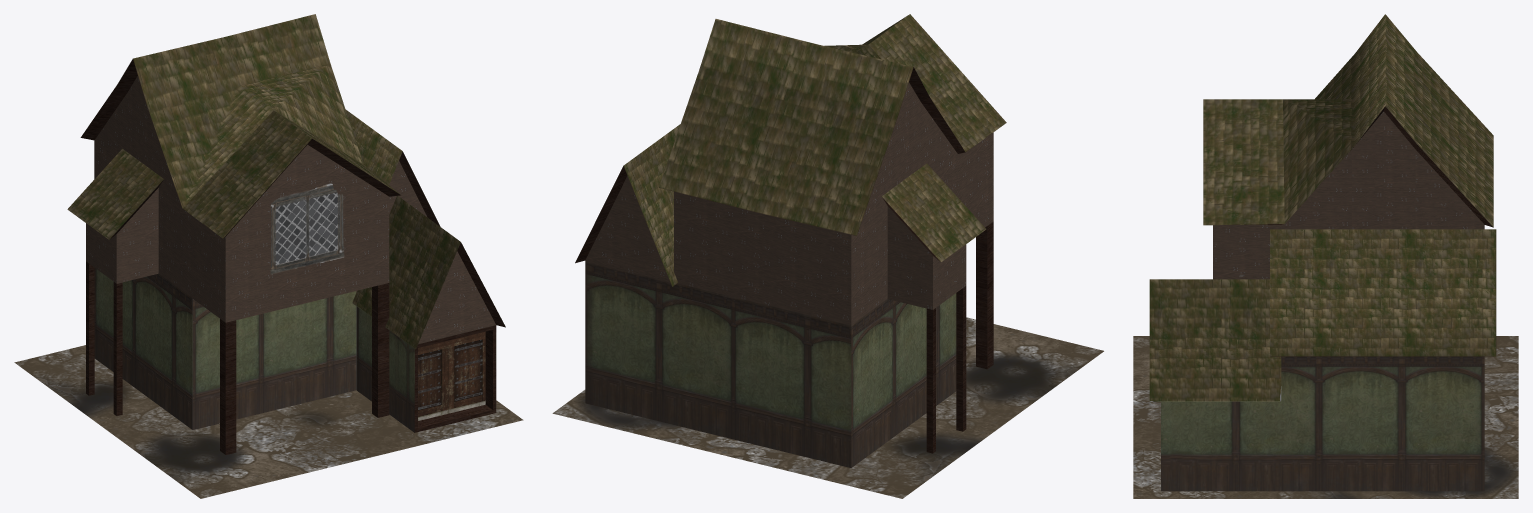
File: Inn.FBX
3 renders of one model, left to right at view 1: azimuth 30°, elevation 25°; view 2: azimuth 150°, elevation 25°; view 3: azimuth 270°, elevation 25°, orthographic. The views are drawn at different scales.
Parts seen in each view (by area): view 1: Inn; view 2: Inn; view 3: Inn.
Boxes of the visible parts, left/top/right/bottom form: Inn: left=14, top=14, right=523, bottom=498; Inn: left=552, top=14, right=1103, bottom=498; Inn: left=1133, top=14, right=1518, bottom=498.
Size of the model in its own units: 5.91 by 5.91 by 5.91.
